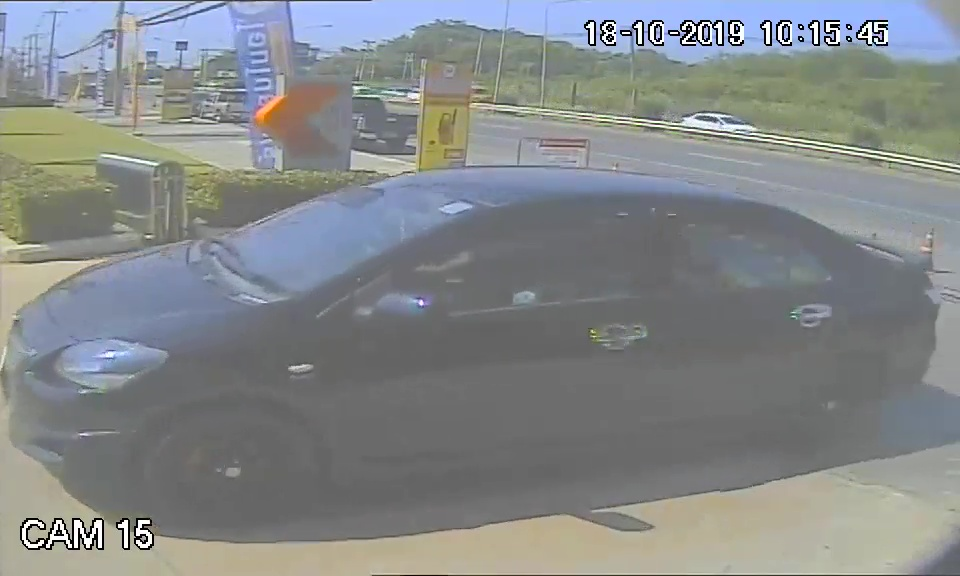sedan: (9, 163, 937, 511)
